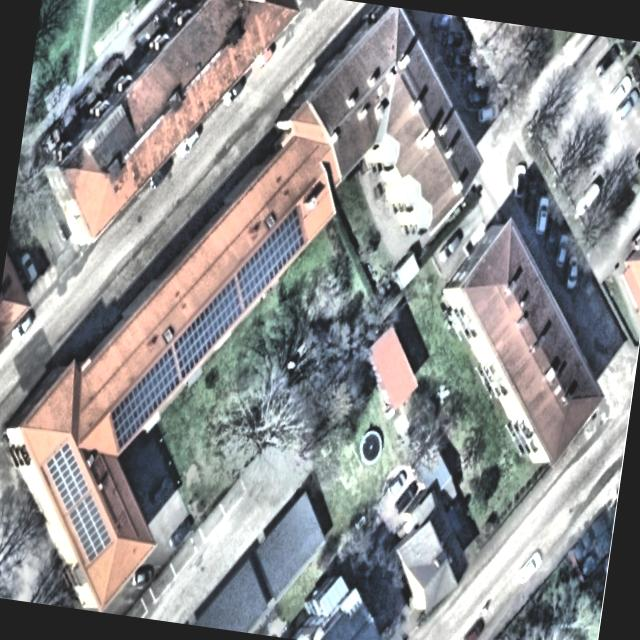roof_pv: (60, 494, 120, 566), (40, 440, 96, 514), (102, 364, 146, 456), (140, 342, 184, 428), (170, 296, 213, 384), (233, 229, 276, 316), (268, 203, 310, 290), (206, 273, 248, 354)
